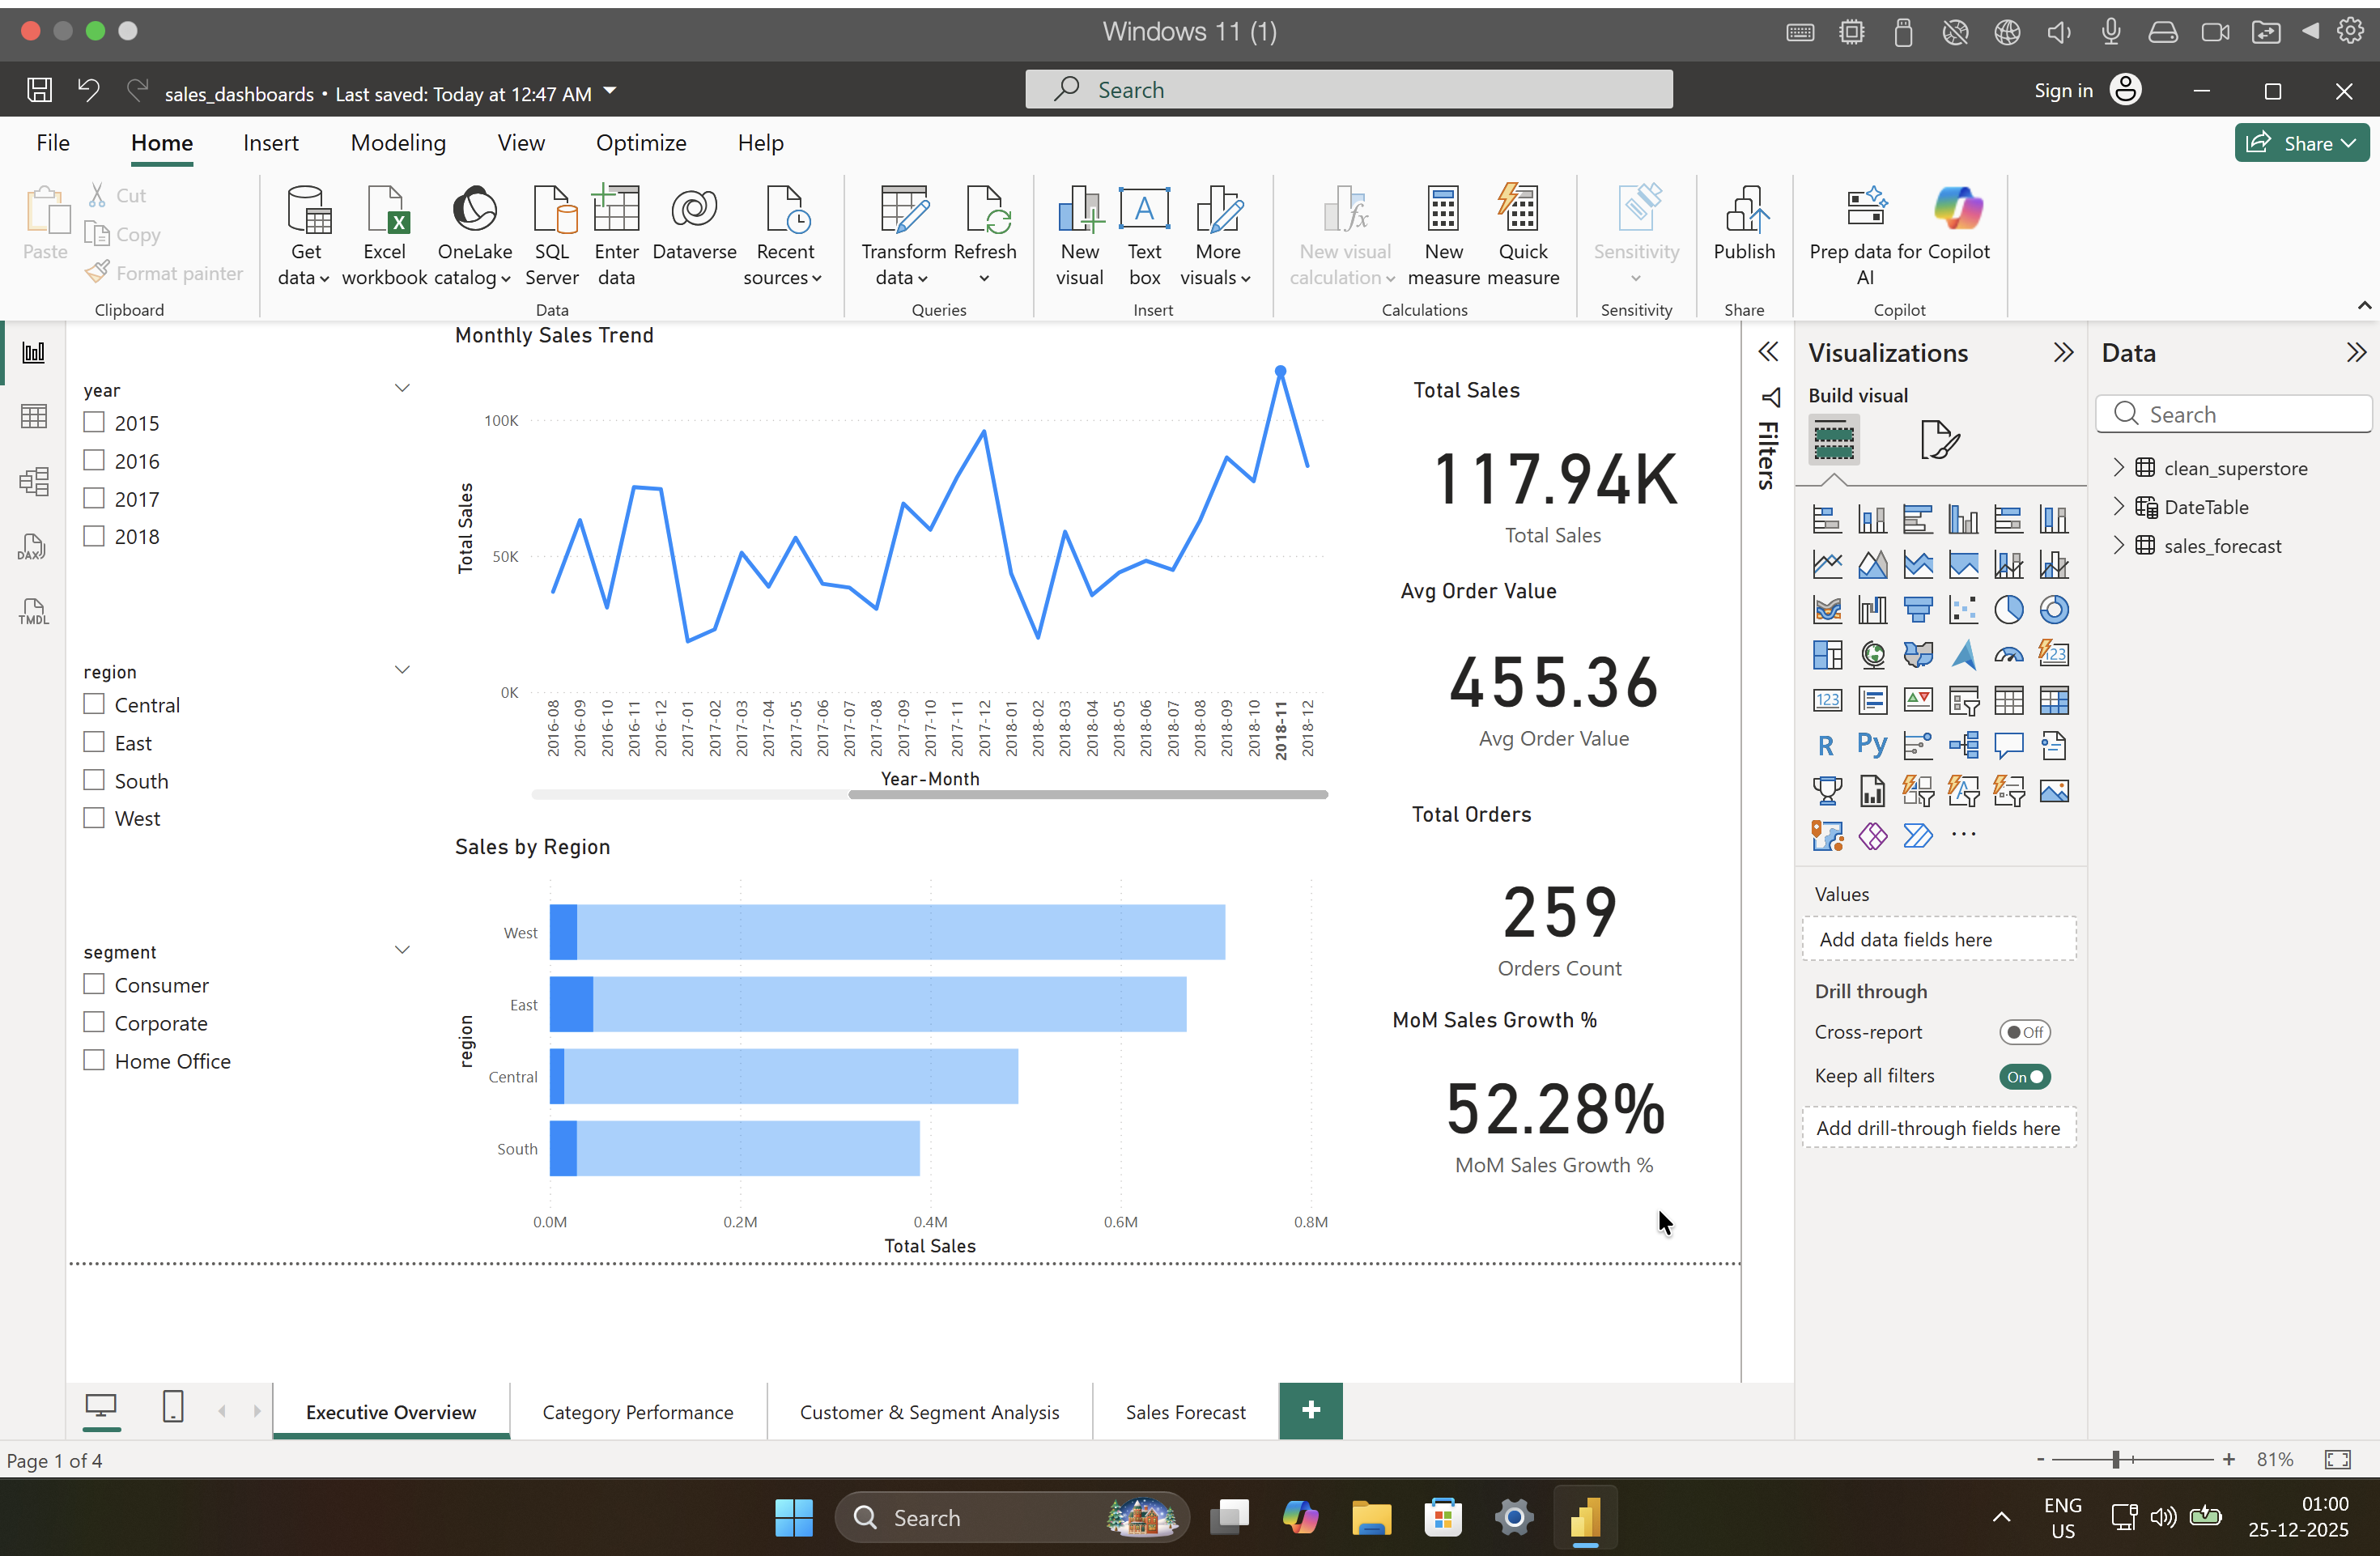

The dashboard page shown, as its layout file describes it:
{"tool":"powerbi","page":{"name":"Executive Overview","canvas":[1280,720],"ordinal":0},"visuals":[{"type":"card","title":"Total Sales","fields":{"Values":["clean_superstore.Total Sales"]},"box":[18.6,35.9,224.1,143.6],"z":0},{"type":"card","title":"Total Orders","fields":{"Values":["clean_superstore.Orders Count"]},"box":[17.3,360.2,236.4,157.2],"z":1000},{"type":"card","title":"Avg Order Value","fields":{"Values":["clean_superstore.Avg Order Value"]},"box":[8.7,189.4,245.1,147.3],"z":2000},{"type":"card","title":"MoM Sales Growth %","fields":{"Values":["clean_superstore.MoM Sales Growth %"]},"box":[2.5,517.4,257.5,143.6],"z":3000},{"type":"lineChart","title":"Monthly Sales Trend","fields":{"Category":["DateTable.Year-Month"],"Y":["clean_superstore.Total Sales"]},"box":[292.1,22.3,678.4,370.1],"z":4000},{"type":"clusteredBarChart","title":"Sales by Region","fields":{"Category":["clean_superstore.region"],"Y":["clean_superstore.Total Sales"]},"box":[292.1,392.4,678.4,328],"z":5000},{"type":"slicer","fields":{"Values":["clean_superstore.year"]},"box":[991.6,48.3,276.1,208],"z":6000},{"type":"slicer","fields":{"Values":["clean_superstore.region"]},"box":[991.6,263.7,276.1,191.9],"z":7000},{"type":"slicer","fields":{"Values":["clean_superstore.segment"]},"box":[991.6,477.8,276.1,191.9],"z":8000}]}

Visuals, with their boxes on the page's 1280x720 design canvas (x1, y1, x2, y2). These are canvas units, not pixel positions in the 2380x1556 screenshot, which may show the page scaled, cropped or inside an application window:
"Total Sales" card: 19,36,243,180
"Total Orders" card: 17,360,254,517
"Avg Order Value" card: 9,189,254,337
"MoM Sales Growth %" card: 2,517,260,661
"Monthly Sales Trend" lineChart: 292,22,970,392
"Sales by Region" clusteredBarChart: 292,392,970,720
slicer - clean_superstore.year: 992,48,1268,256
slicer - clean_superstore.region: 992,264,1268,456
slicer - clean_superstore.segment: 992,478,1268,670
